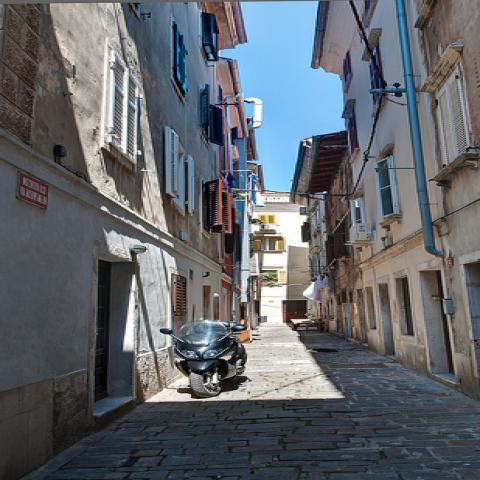motorcycle: (160, 320, 247, 397)
